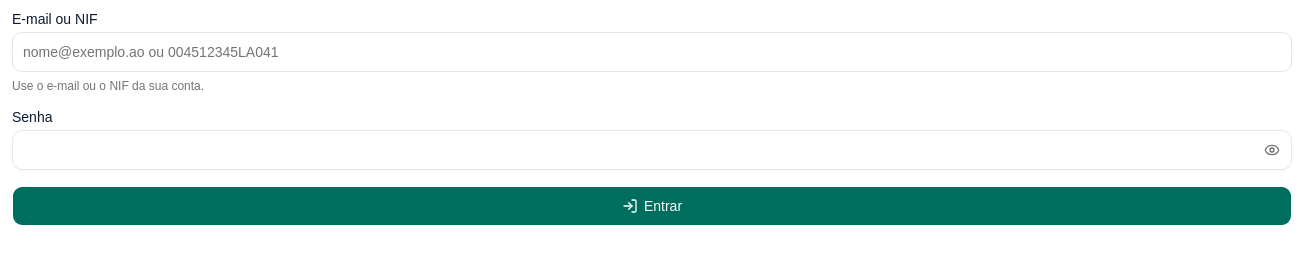
Test: LoginForm › valida campos obrigatórios sem chamar a API
The image size is (1304, 264).
Step 1. Click the button "Entrar" → (652,206), box [12,186,1292,226]
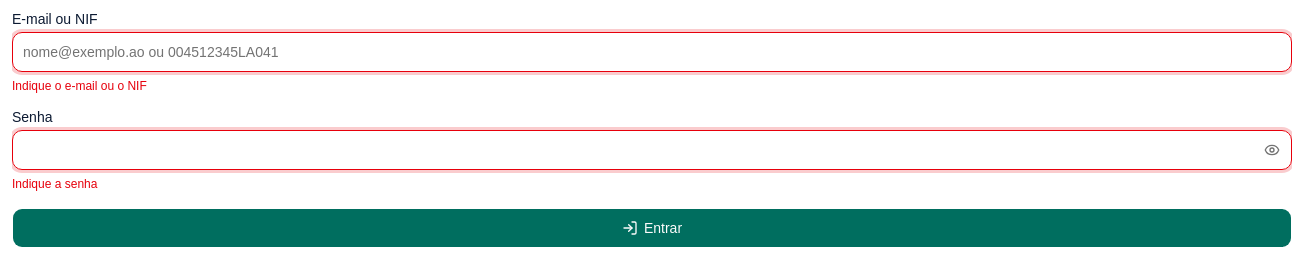
Check: the text "Indique o e-mail ou o NIF" is shown, box [12,79,147,93]
Check: the text "Indique a senha" is shown, box [12,177,97,191]
